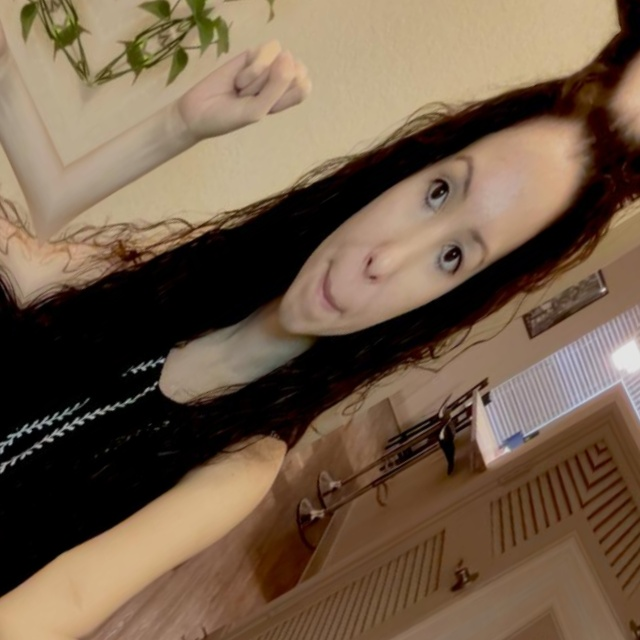Rock: (0, 0, 50, 112)
